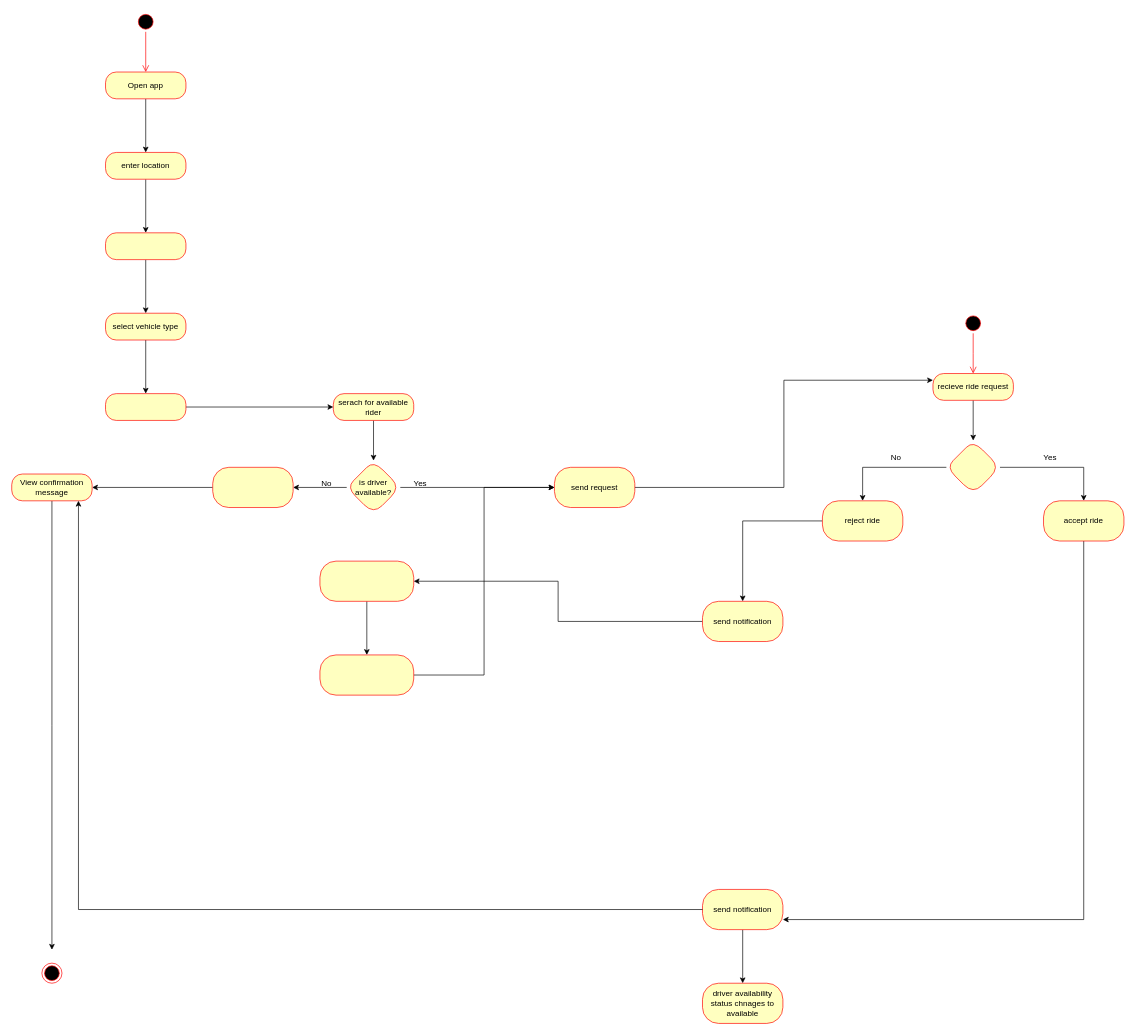
This 1136x1035 diagram has some shape labels left out. Each missing label, with the centre of its shape:
"book ride" belongs at (x=145, y=406).
"enter destination" belongs at (x=145, y=246).
"find another driver" belongs at (x=366, y=674).
"No available Ride" belongs at (x=252, y=487).
"request rejected" belongs at (x=366, y=580).
"what to do" belongs at (x=973, y=467).
